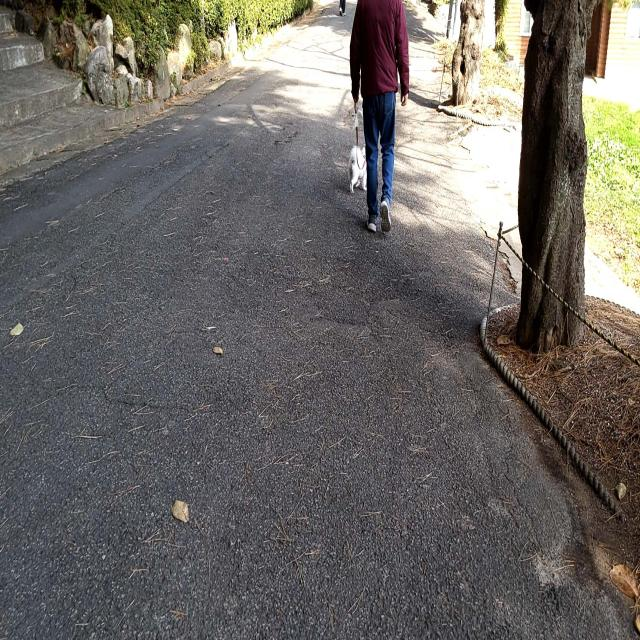Leashed_Dog: (348, 89, 376, 195)
